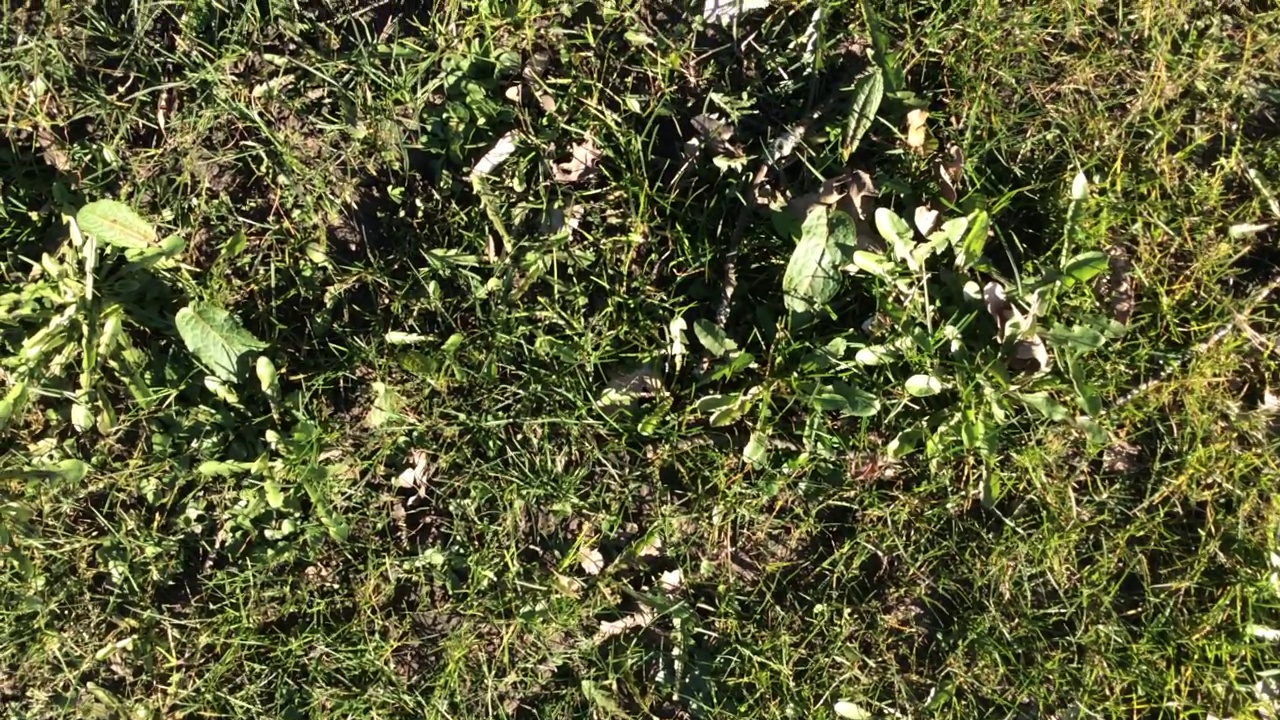rumex: (784, 214, 855, 310), (177, 305, 260, 383), (79, 199, 155, 251), (840, 69, 885, 148)
